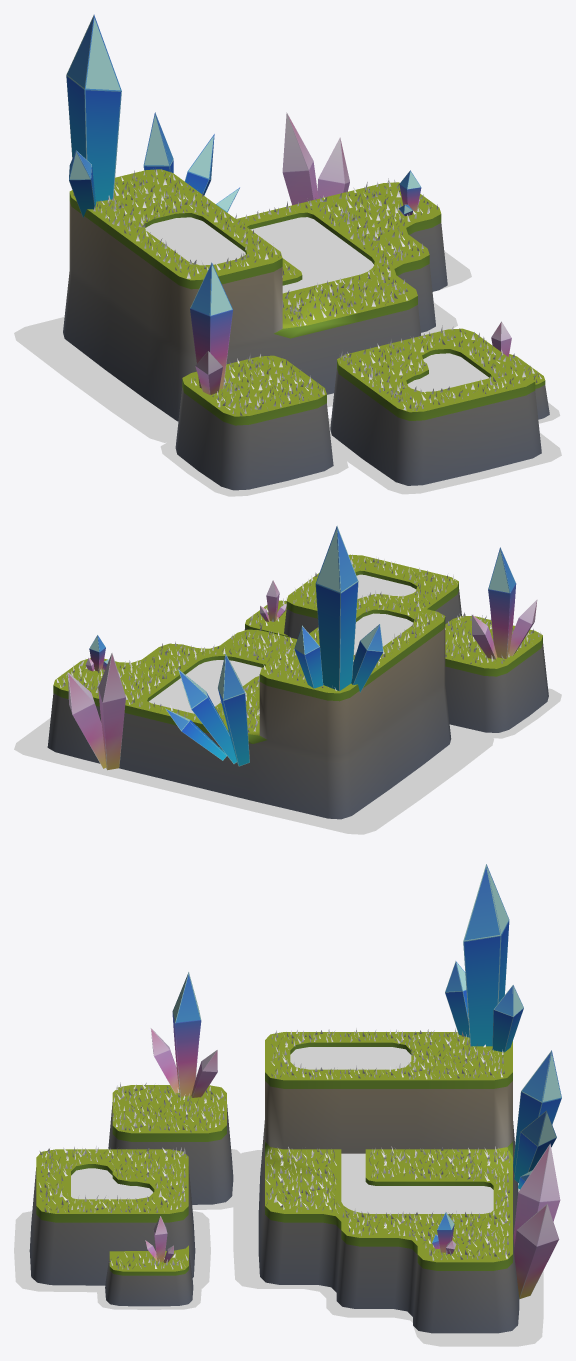
Rendered from Crystal_island.fbx.
3 renders of one model, top to bottom at view 1: azimuth 30°, elevation 25°; view 2: azimuth 150°, elevation 25°; view 3: azimuth 270°, elevation 25°, orthographic. The views are drawn at different scales.
Visible parts, largest first — view 1: Cube.011, Cube.013, Plane.039, Plane.026, Cube.012, Plane.025, Cube.010, Plane.032, Cube.009, Plane.037, Plane.028, Plane.029 (+2 smaller); view 2: Cube.011, Cube.013, Plane.026, Plane.039, Plane.025, Plane.032, Cube.012, Plane.029, Plane.037, Plane.030, Plane.028, Cube.010 (+5 smaller); view 3: Cube.011, Cube.013, Plane.039, Plane.026, Cube.012, Plane.025, Plane.037, Cube.010, Plane.029, Plane.032, Cube.009, Plane.030 (+3 smaller).
Boxes of the visible parts, box(x1,y1,x2,y2) form: Cube.011: box(63, 169, 549, 490); Cube.013: box(14, 251, 561, 496); Plane.039: box(73, 167, 541, 415); Plane.026: box(66, 14, 121, 201); Cube.012: box(250, 217, 373, 293); Plane.025: box(190, 262, 232, 395); Cube.010: box(145, 217, 245, 265); Plane.032: box(282, 112, 318, 205); Cube.009: box(407, 353, 489, 391); Plane.037: box(317, 137, 349, 198); Plane.028: box(69, 150, 96, 217); Plane.029: box(143, 112, 173, 172); Cube.011: box(47, 554, 548, 819); Cube.013: box(14, 688, 561, 834); Plane.026: box(315, 525, 358, 690); Plane.039: box(56, 550, 541, 732); Plane.025: box(472, 547, 537, 659); Plane.032: box(98, 653, 125, 770); Cube.012: box(149, 660, 261, 713); Plane.029: box(218, 653, 249, 766); Plane.037: box(68, 672, 106, 768); Plane.030: box(178, 669, 236, 763); Plane.028: box(351, 624, 383, 692); Cube.010: box(354, 613, 413, 654); Cube.011: box(29, 1032, 519, 1333); Cube.013: box(14, 1149, 543, 1346); Plane.039: box(39, 1028, 510, 1269); Plane.026: box(463, 864, 509, 1046); Cube.012: box(341, 1153, 493, 1213); Plane.025: box(150, 972, 217, 1097); Plane.037: box(514, 1204, 559, 1299); Cube.010: box(290, 1047, 411, 1069); Plane.029: box(513, 1050, 561, 1174); Plane.032: box(513, 1143, 560, 1246); Cube.009: box(71, 1168, 153, 1199); Plane.030: box(514, 1110, 556, 1182).
Size of the model in its own units: 2486 by 1854 by 2875.
